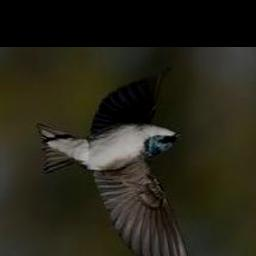Swallow: (38, 68, 194, 256)
